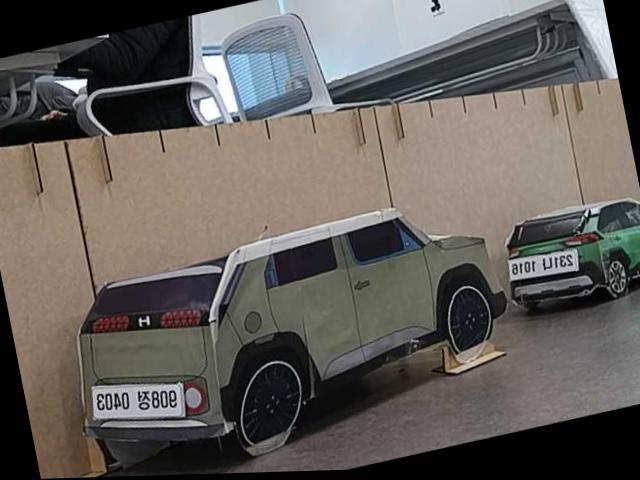car: (53, 178, 528, 478), (491, 185, 640, 325)
id: (84, 364, 194, 435), (504, 242, 584, 286)
